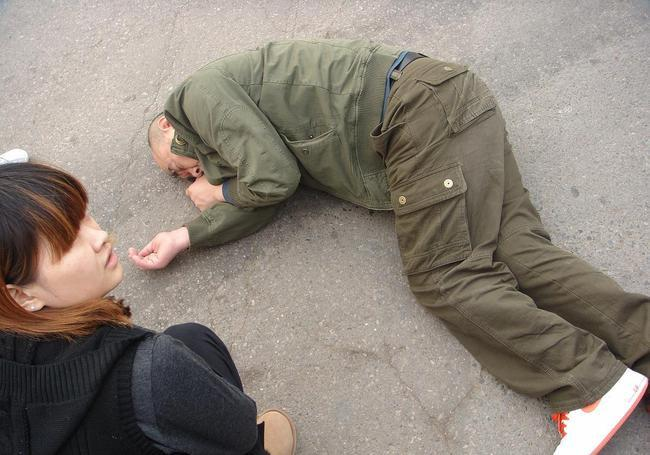falling: (132, 52, 650, 403)
sitting: (15, 151, 293, 455)
